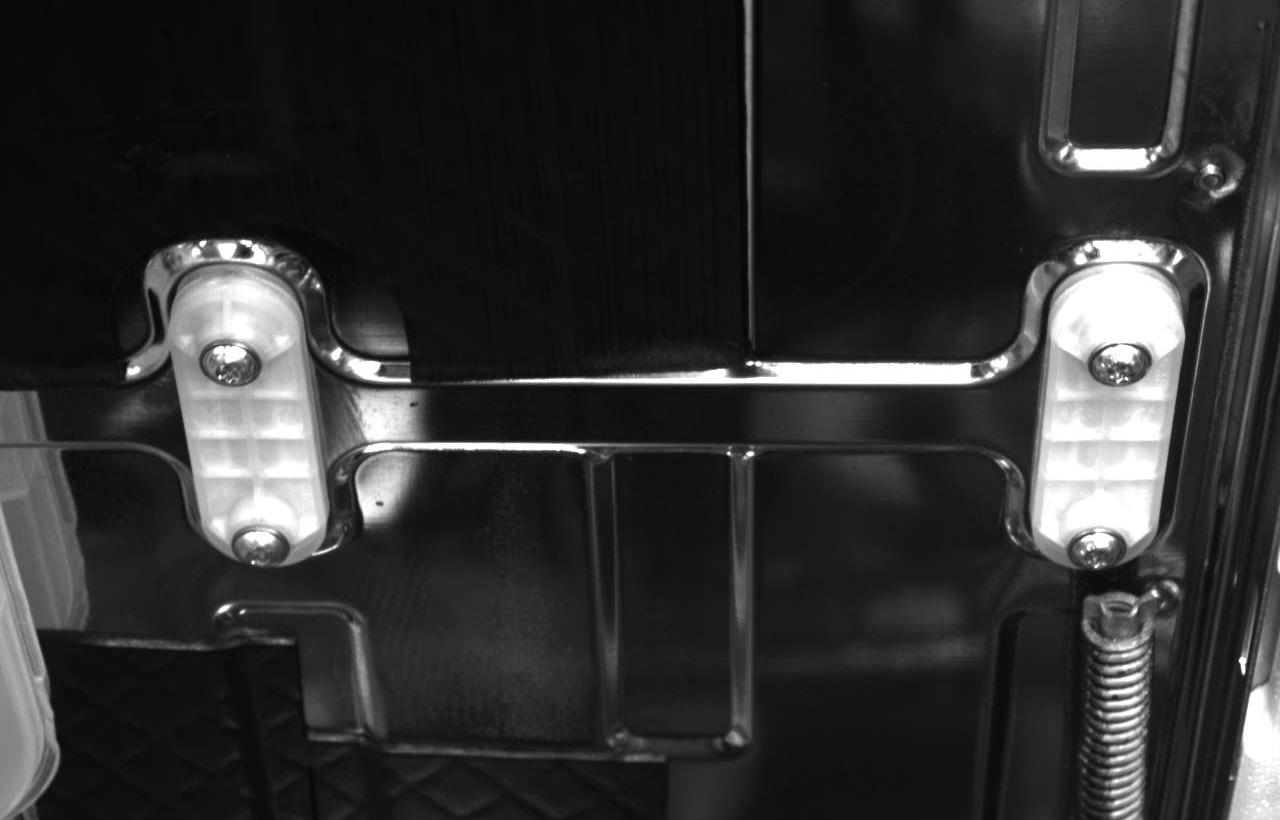vida-ok: (193, 328, 264, 395), (1087, 331, 1154, 398), (227, 519, 293, 578), (1064, 521, 1130, 579)
